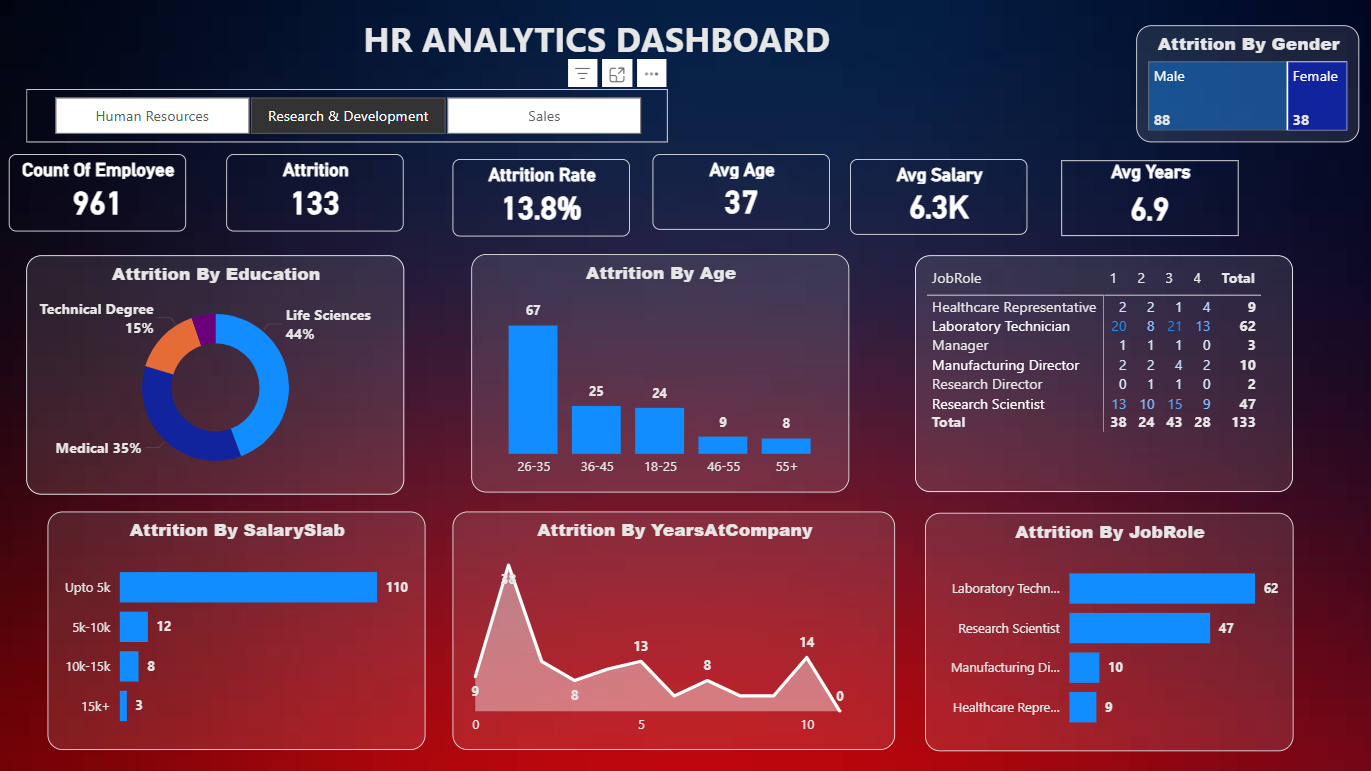

The dashboard page shown, as its layout file describes it:
{"tool":"powerbi","page":{"name":"Page 1","canvas":[1280,720],"ordinal":0},"visuals":[{"type":"card","title":"Count Of Employee","fields":{"Values":["Count(HR_Analytics (2).EmpID)"]},"box":[13.1,144.1,165.1,72.1],"z":0},{"type":"card","title":"Attrition","fields":{"Values":["Sum(HR_Analytics (2).AttritionCount)"]},"box":[214.9,144.1,165.1,72.1],"z":1000},{"type":"card","title":"Attrition Rate","fields":{"Values":["HR_Analytics (2).AttritionRate"]},"box":[424.6,148.1,165.1,72.1],"z":2000},{"type":"card","title":"Avg Age","fields":{"Values":["Avg(HR_Analytics (2).Age)"]},"box":[610.6,144.1,165.1,70.8],"z":3000},{"type":"card","title":"Avg Years","fields":{"Values":["Avg(HR_Analytics (2).YearsAtCompany)"]},"box":[990.7,149.4,165.1,70.8],"z":4000},{"type":"card","title":"Avg Salary","fields":{"Values":["Avg(HR_Analytics (2).MonthlyIncome)"]},"box":[794.1,148.1,165.1,70.8],"z":5000},{"type":"donutChart","title":"Attrition By Education","fields":{"Category":["HR_Analytics (2).EducationField"],"Y":["Sum(HR_Analytics (2).AttritionCount)"]},"box":[28.8,238.5,351.2,222.8],"z":6000},{"type":"columnChart","title":"Attrition By Age","fields":{"Category":["HR_Analytics (2).AgeGroup"],"Y":["Sum(HR_Analytics (2).AttritionCount)"]},"box":[442.9,237.2,351.2,221.5],"z":7000},{"type":"pivotTable","fields":{"Rows":["HR_Analytics (2).JobRole"],"Columns":["HR_Analytics (2).JobSatisfaction"],"Values":["Sum(HR_Analytics (2).AttritionCount)"]},"box":[854.4,238.5,351.2,220.1],"z":8000},{"type":"barChart","title":"Attrition By SalarySlab","fields":{"Category":["HR_Analytics (2).SalarySlab"],"Y":["Sum(HR_Analytics (2).AttritionCount)"]},"box":[48.5,475.7,351.2,221.5],"z":8001},{"type":"barChart","title":"Attrition By JobRole","fields":{"Category":["HR_Analytics (2).JobRole"],"Y":["Sum(HR_Analytics (2).AttritionCount)"]},"box":[863.6,477,342,221.5],"z":8002},{"type":"areaChart","title":"Attrition By YearsAtCompany","fields":{"Category":["HR_Analytics (2).YearsAtCompany"],"Y":["Sum(HR_Analytics (2).AttritionCount)"]},"box":[424.6,475.7,411.5,221.5],"z":8003},{"type":"treemap","title":"Attrition By Age","fields":{"Group":["HR_Analytics (2).Gender"],"Values":["Sum(HR_Analytics (2).AttritionCount)"]},"box":[1060.1,24.9,207,108.8],"z":8004},{"type":"slicer","fields":{"Values":["HR_Analytics (2).Department"]},"box":[28.8,83.9,596.2,49.8],"z":8005},{"type":"textbox","box":[83.9,10.5,951.4,57.7],"z":8006}]}

Visuals, with their boxes in screenshot pixels (x1, y1, x2, y2), scaled from the page's 1280x720 canvas onto the 1371x771 screenshot:
"Count Of Employee" card: region(14, 154, 191, 232)
"Attrition" card: region(230, 154, 407, 232)
"Attrition Rate" card: region(455, 159, 632, 236)
"Avg Age" card: region(654, 154, 831, 230)
"Avg Years" card: region(1061, 160, 1238, 236)
"Avg Salary" card: region(851, 159, 1027, 234)
"Attrition By Education" donutChart: region(31, 255, 407, 494)
"Attrition By Age" columnChart: region(474, 254, 851, 491)
pivotTable - HR_Analytics (2).JobRole x HR_Analytics (2).JobSatisfaction: region(915, 255, 1291, 491)
"Attrition By SalarySlab" barChart: region(52, 509, 428, 747)
"Attrition By JobRole" barChart: region(925, 511, 1291, 748)
"Attrition By YearsAtCompany" areaChart: region(455, 509, 896, 747)
"Attrition By Age" treemap: region(1135, 27, 1357, 143)
slicer - HR_Analytics (2).Department: region(31, 90, 669, 143)
textbox: region(90, 11, 1109, 73)
